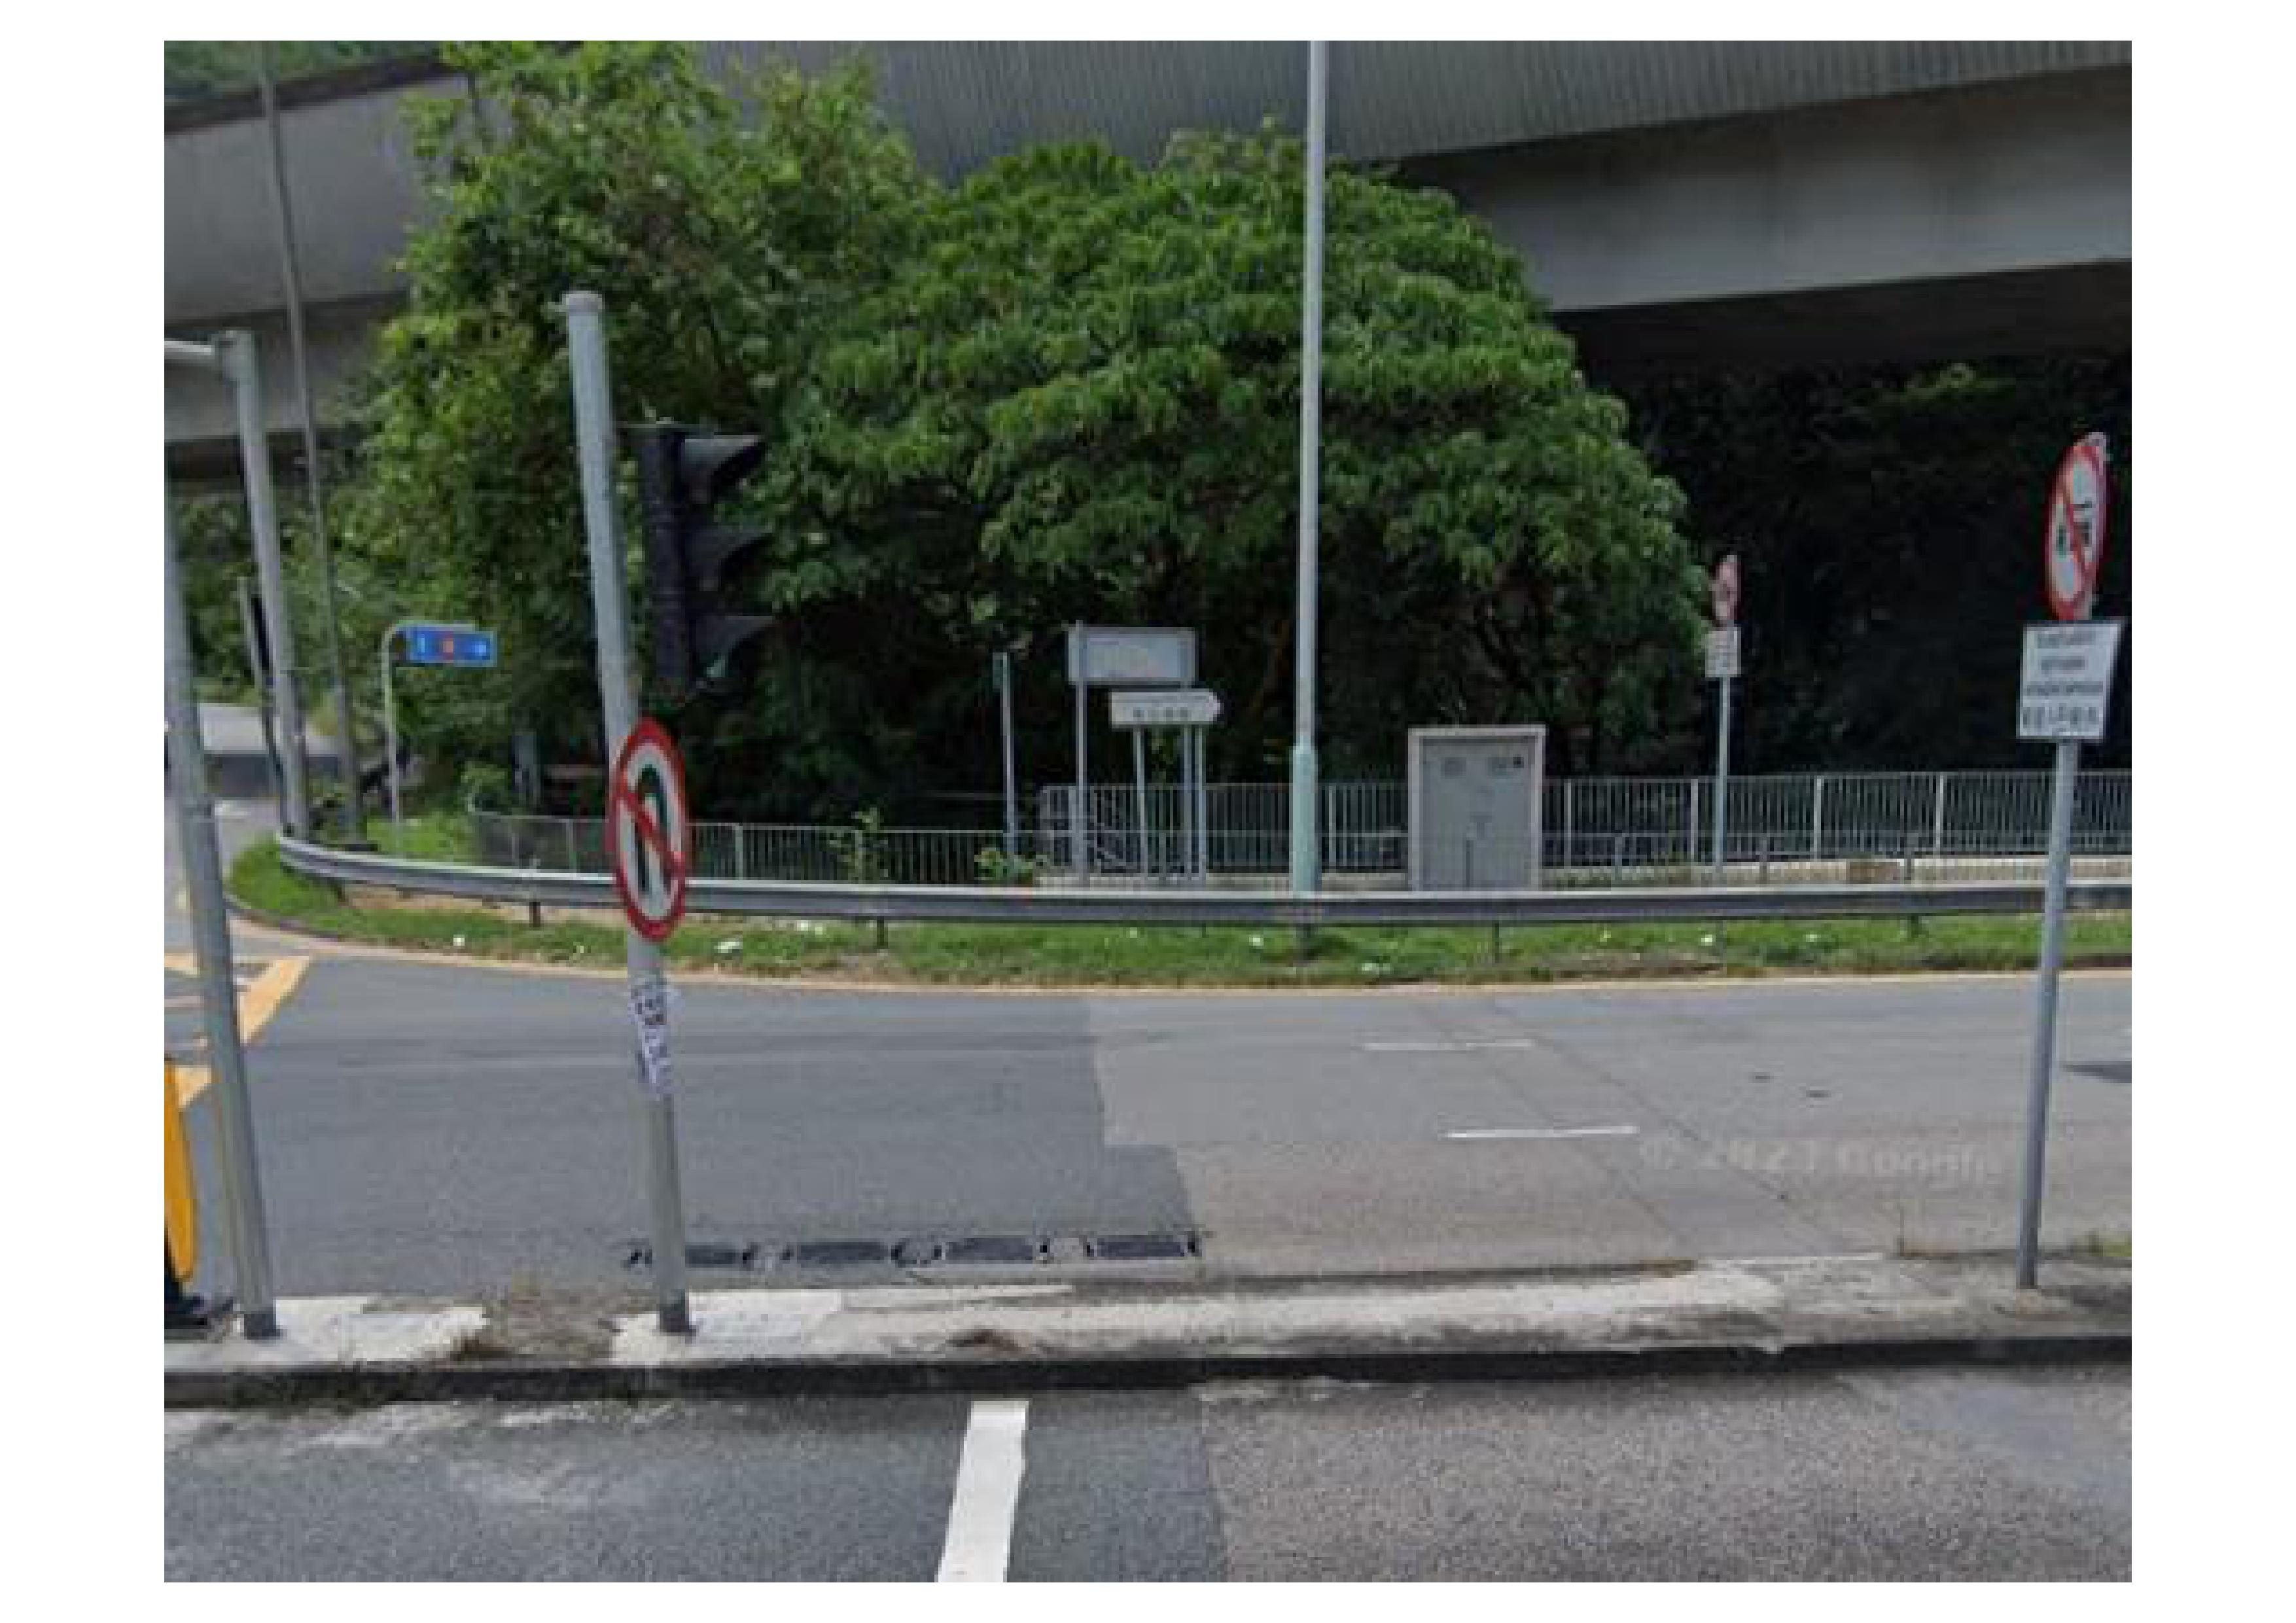No Uturn: (586, 718, 707, 947)
